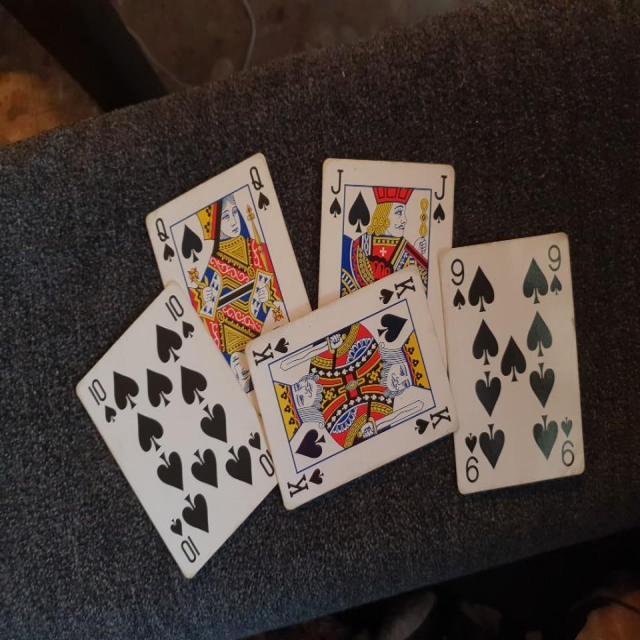10 Spades: (68, 281, 289, 588)
9 Spades: (435, 213, 590, 498)
J Spades: (316, 148, 453, 420)
K Spades: (234, 264, 466, 509)
Q Spades: (140, 146, 313, 418)
